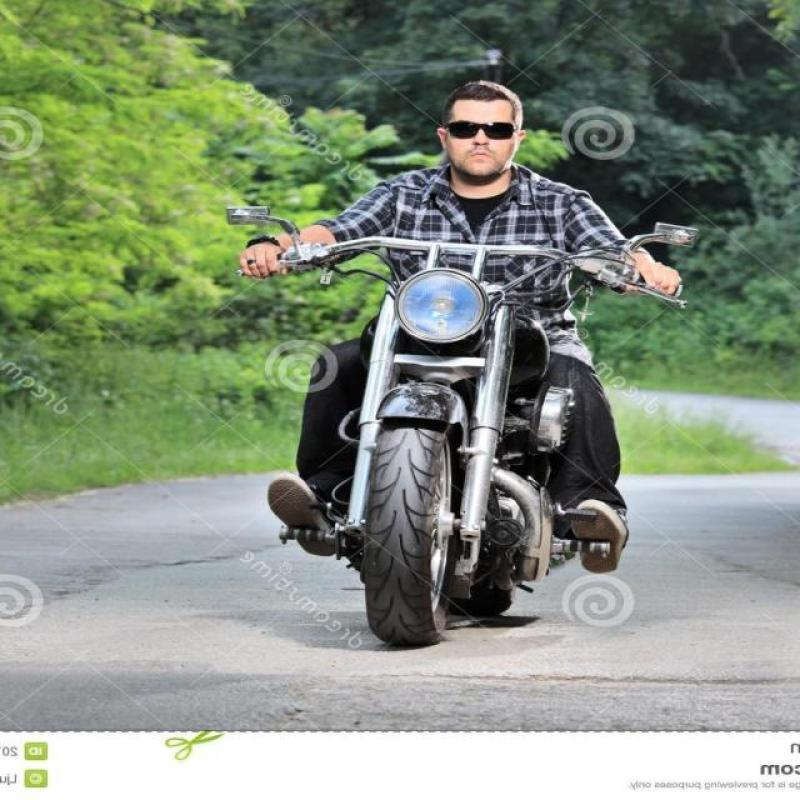nohelmet: (406, 66, 524, 195)
